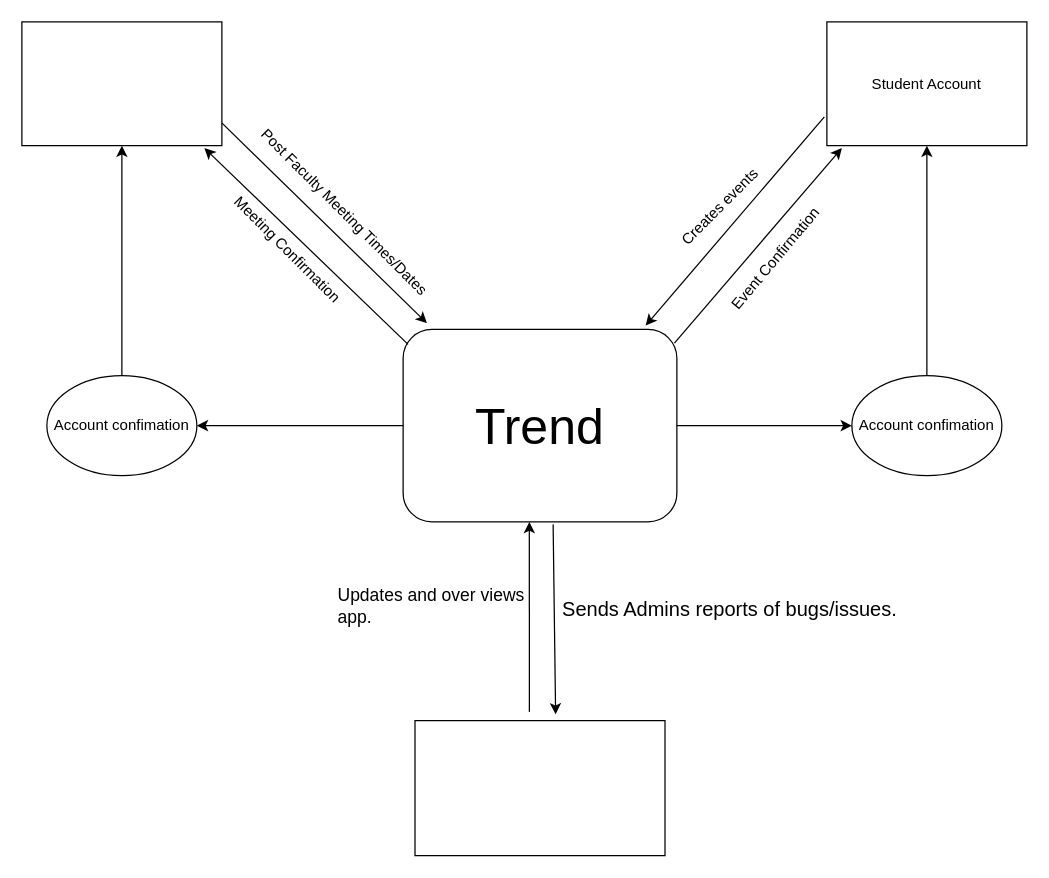
The diagram is 1049 pixels wide and 878 high, and some of its shapes have lost their labels. Here are the shapes that lost their labels. From the top down, the centre of each, then its label:
At (121,83): "Faculty/Staff Account".
At (539,787): "Admin Account".
